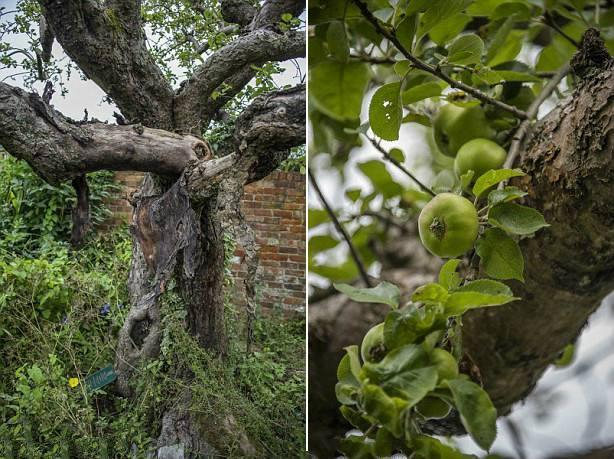apple: (417, 187, 479, 257), (454, 138, 505, 186)
